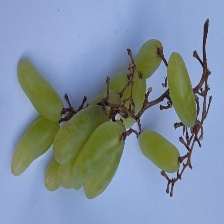grapes: (38, 33, 222, 224)
